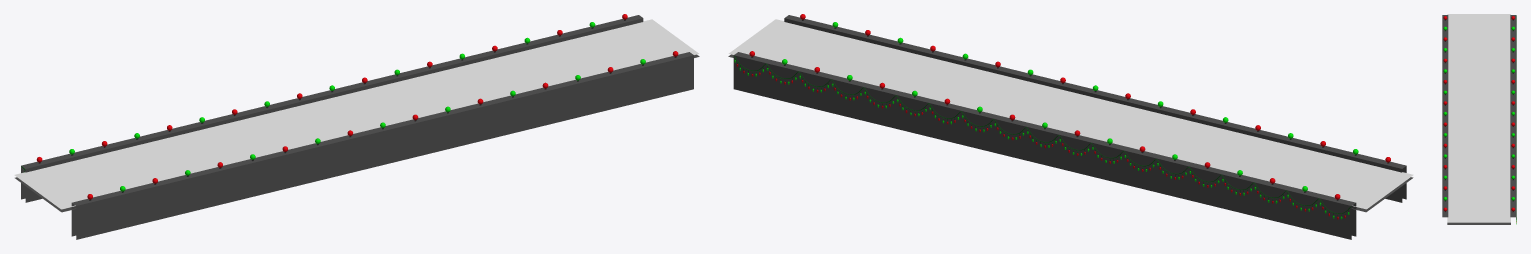
Rendered from Conveyor belt.glb.
3 renders of one model, left to right at view 1: azimuth 30°, elevation 25°; view 2: azimuth 150°, elevation 25°; view 3: azimuth 270°, elevation 25°, orthographic. The views are drawn at different scales.
Visible parts, largest first — view 1: SM_Side, Sm_Belt; view 2: SM_Side, Sm_Belt; view 3: Sm_Belt, SM_Side.
Boxes of the visible parts, x1,y1,x2,y2 form: SM_Side: (15, 14, 699, 239); Sm_Belt: (14, 19, 698, 209); SM_Side: (728, 14, 1413, 239); Sm_Belt: (728, 19, 1413, 209); Sm_Belt: (1447, 14, 1510, 222); SM_Side: (1442, 15, 1516, 224).
Size of the model in its own units: 20.12 by 1.21 by 3.03.
